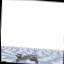drone: (14, 53, 40, 64)
